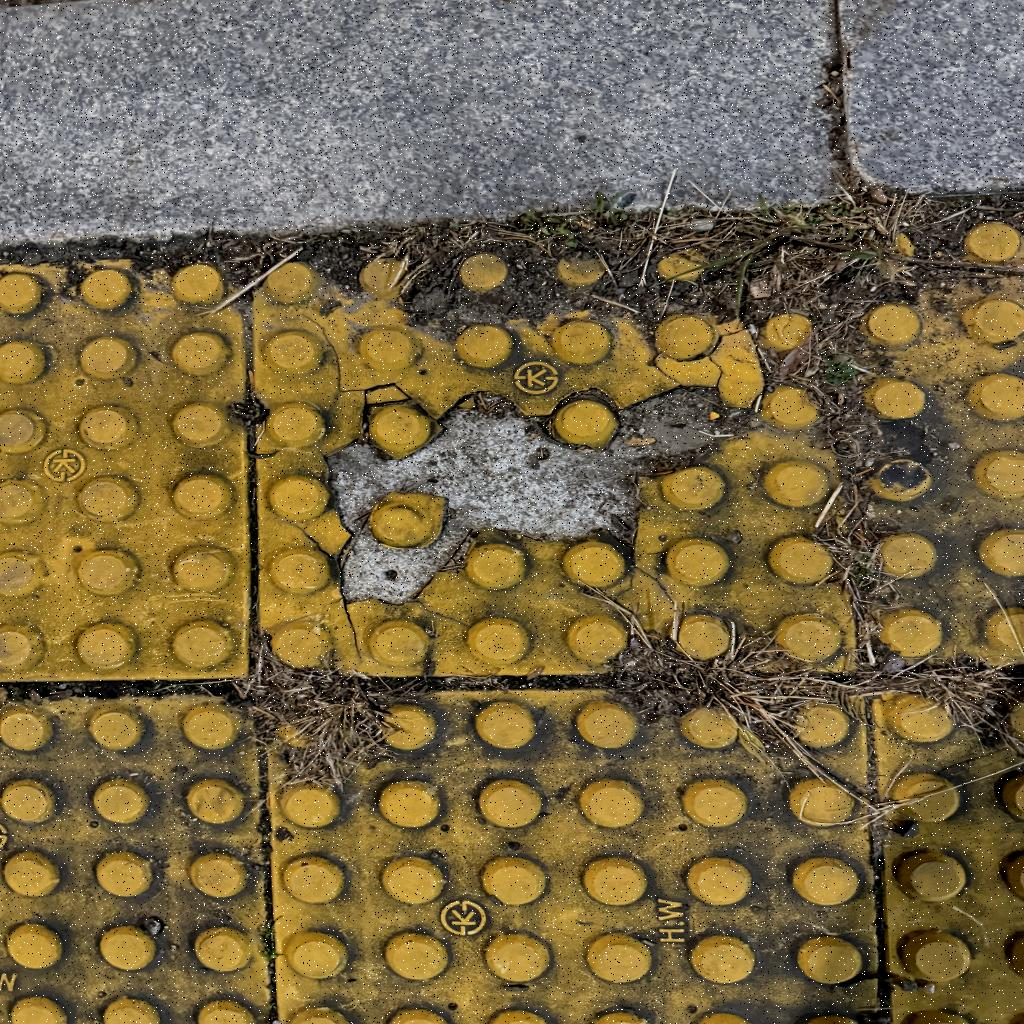Stop block broken: (254, 250, 846, 673)
